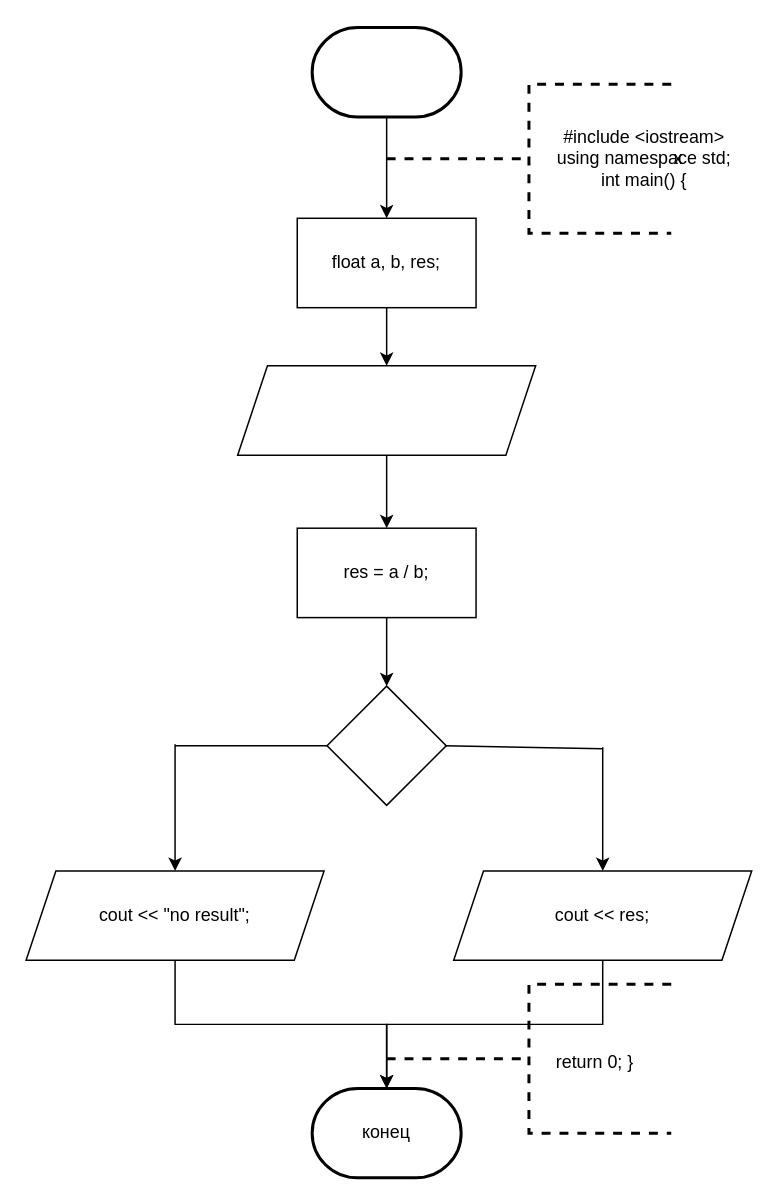
Image size: 778x1204. Some labels were removed from this diagram. Here are the shapes that lost their labels. From the top down, the centre of each, then its label:
At [386,71]: "начало".
At [386,409]: "cin >> a >> b;".
At [386,745]: "if (b != 0)".
